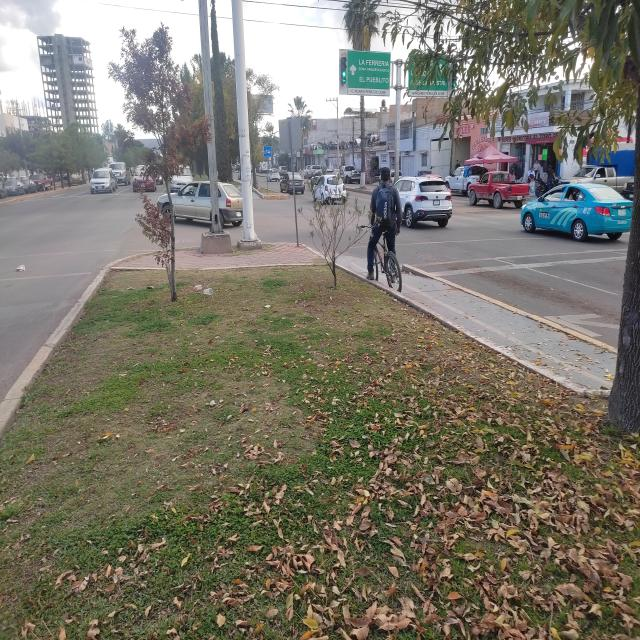3: (348, 169, 412, 289)
Auto: (519, 182, 637, 249), (149, 167, 251, 237), (466, 157, 530, 212), (562, 158, 635, 205), (440, 160, 482, 202), (309, 168, 346, 206), (126, 156, 160, 197), (82, 161, 120, 197), (274, 164, 308, 200)
